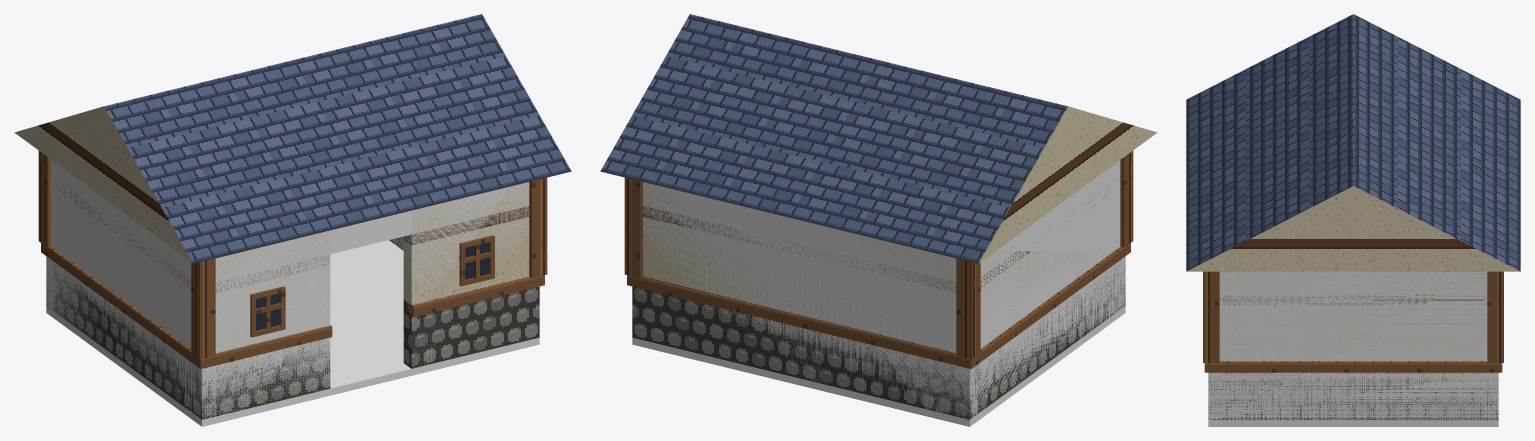
Rendered from cottage.glb.
The picture shows the model from 3 angles, left to right: view 1: azimuth 30°, elevation 25°; view 2: azimuth 150°, elevation 25°; view 3: azimuth 270°, elevation 25°; orthographic projection. The views are drawn at different scales.
Visible parts, largest first — view 1: roof, col_wall_west, col_wall_south_w, col_floor, wall_south_e_high, col_wall_south_e, wall_south_e_low, wall_west_low, wall_south_w_low, frame_sill, frame_post_sw, wall_west_high (+7 smaller); view 2: roof, col_wall_north, col_wall_west, wall_north_low, wall_north_high, frame_sill, wall_west_low, col_floor, frame_post_nw, wall_west_high, frame_post_ne, frame_post_sw; view 3: roof, col_wall_east, wall_east_high, wall_east_low, frame_sill, col_floor, frame_post_ne, frame_post_se, col_wall_south_e, col_wall_north.
Boxes of the visible parts, bbox=[...] form: roof: bbox=[14, 14, 571, 263]; col_wall_west: bbox=[46, 162, 215, 426]; col_wall_south_w: bbox=[194, 230, 330, 426]; col_floor: bbox=[46, 240, 539, 426]; wall_south_e_high: bbox=[403, 182, 529, 315]; col_wall_south_e: bbox=[403, 182, 538, 375]; wall_south_e_low: bbox=[403, 286, 539, 368]; wall_west_low: bbox=[46, 265, 214, 418]; wall_south_w_low: bbox=[194, 340, 330, 419]; frame_sill: bbox=[41, 243, 544, 368]; frame_post_sw: bbox=[191, 258, 215, 359]; wall_west_high: bbox=[54, 165, 191, 345]; roof: bbox=[600, 14, 1157, 263]; col_wall_north: bbox=[639, 182, 977, 426]; col_wall_west: bbox=[957, 160, 1125, 426]; wall_north_low: bbox=[632, 286, 977, 419]; wall_north_high: bbox=[642, 182, 956, 350]; frame_sill: bbox=[627, 243, 1130, 368]; wall_west_low: bbox=[958, 258, 1125, 419]; col_floor: bbox=[632, 306, 1125, 426]; frame_post_nw: bbox=[956, 258, 980, 359]; wall_west_high: bbox=[980, 165, 1119, 341]; frame_post_ne: bbox=[624, 177, 642, 278]; frame_post_sw: bbox=[1120, 151, 1133, 247]; roof: bbox=[1186, 14, 1520, 271]; col_wall_east: bbox=[1208, 271, 1498, 426]; wall_east_high: bbox=[1220, 271, 1487, 361]; wall_east_low: bbox=[1208, 372, 1498, 420]; frame_sill: bbox=[1204, 361, 1502, 372]; col_floor: bbox=[1208, 420, 1498, 426]; frame_post_ne: bbox=[1487, 271, 1503, 362]; frame_post_se: bbox=[1203, 271, 1219, 362]; col_wall_south_e: bbox=[1208, 272, 1222, 426]; col_wall_north: bbox=[1484, 272, 1498, 426].
Bounding box in the file's own units: 5.6 × 3.8 × 4.6.
Materials: 6 (5 with a texture image).
